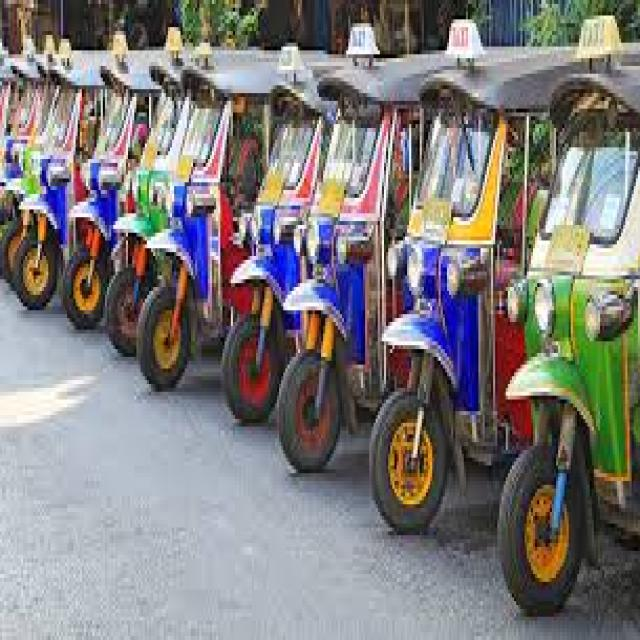tuktuk: (359, 27, 536, 582), (489, 0, 640, 632)
